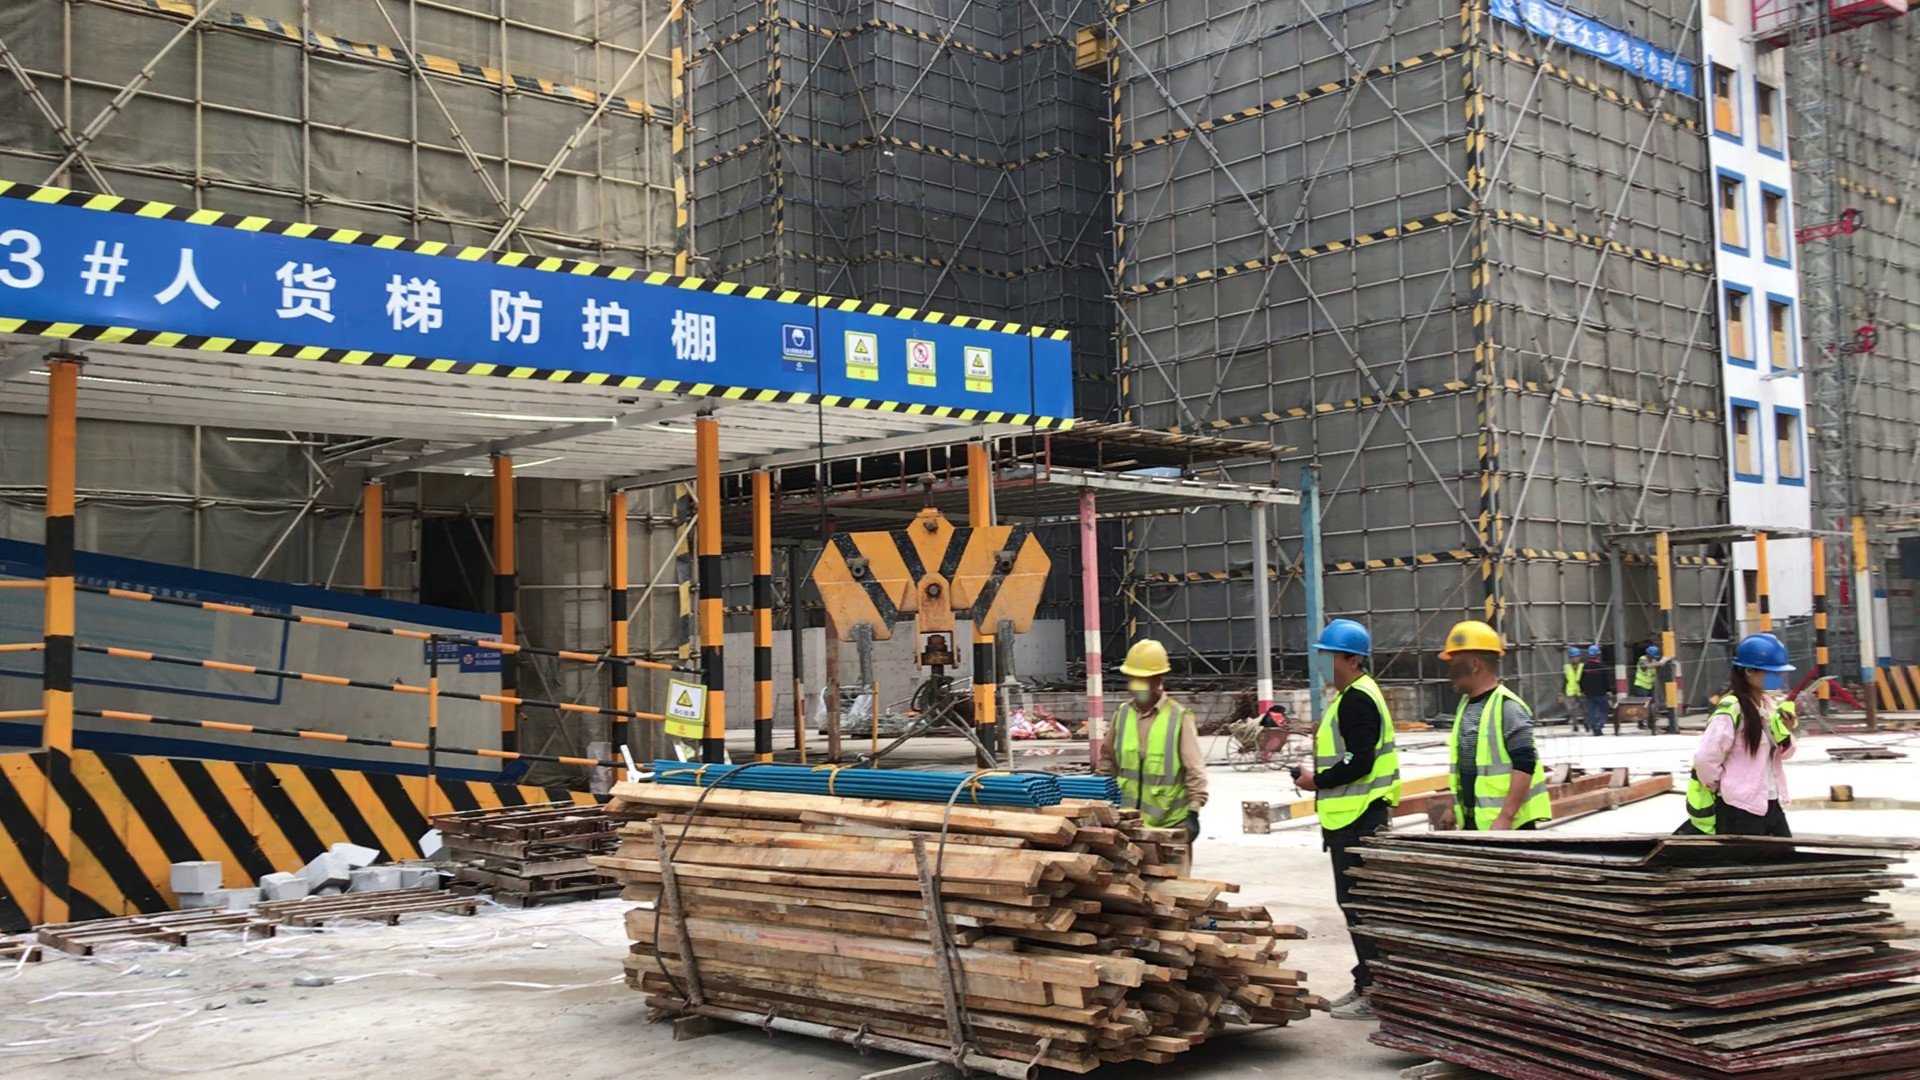helmet: (1728, 635, 1794, 673), (1311, 617, 1372, 656), (1115, 637, 1171, 676), (1439, 620, 1505, 653), (1645, 645, 1659, 659), (1586, 645, 1600, 658), (1567, 647, 1581, 657)
person: (1293, 612, 1403, 1024), (1423, 623, 1557, 838), (1684, 624, 1801, 847), (1091, 632, 1212, 841), (1582, 644, 1613, 734), (1632, 644, 1663, 732), (1558, 646, 1586, 737)
vest: (1453, 684, 1541, 828), (1107, 691, 1195, 822), (1316, 678, 1391, 829), (1634, 657, 1656, 692), (1563, 660, 1583, 696)
